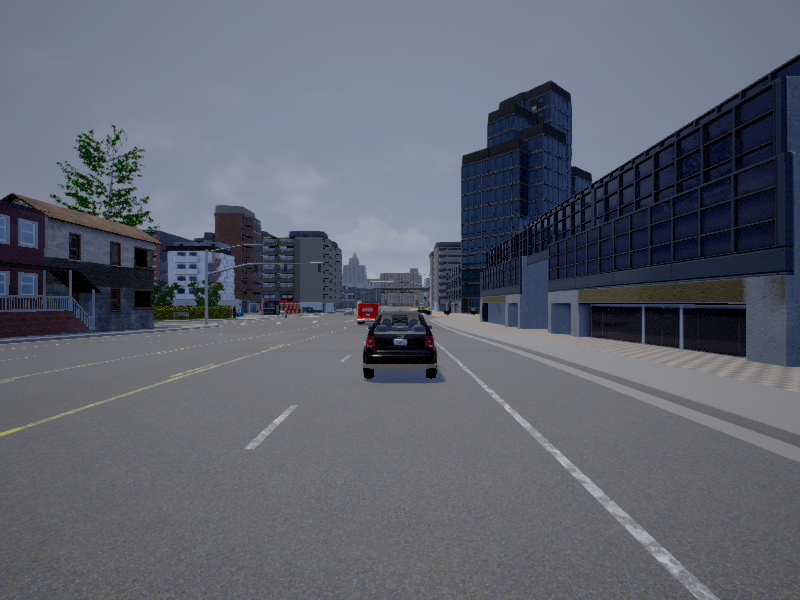Benign: (364, 311, 440, 383), (356, 302, 378, 324)
